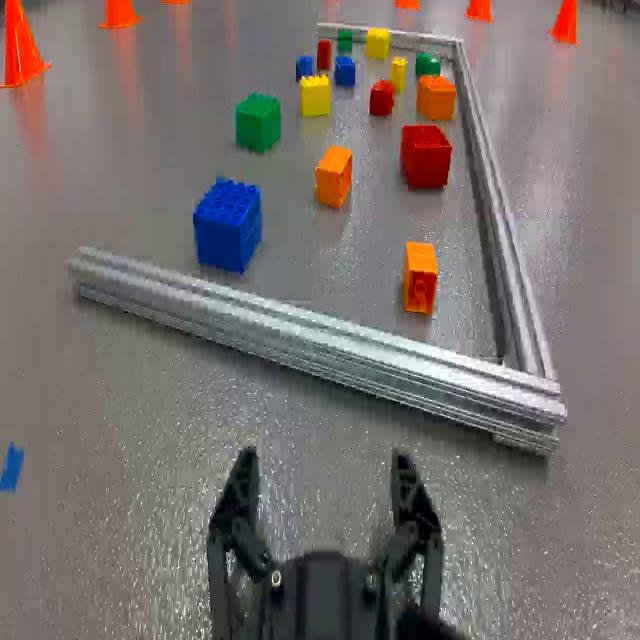block: (300, 76, 330, 116), (367, 30, 389, 59), (391, 58, 405, 94)
blue: (193, 182, 264, 276), (335, 56, 356, 84), (295, 56, 313, 79)
cone: (0, 0, 52, 91), (551, 0, 581, 41), (100, 0, 141, 27), (465, 0, 495, 20), (162, 0, 192, 6), (396, 0, 420, 7)
green: (236, 94, 280, 157), (416, 51, 440, 79), (338, 29, 350, 54)
metal barrier: (67, 20, 566, 467)
orange: (404, 242, 438, 313), (316, 148, 352, 206), (418, 76, 456, 120)
red goal: (401, 126, 451, 192), (370, 79, 394, 115), (317, 39, 331, 71)
